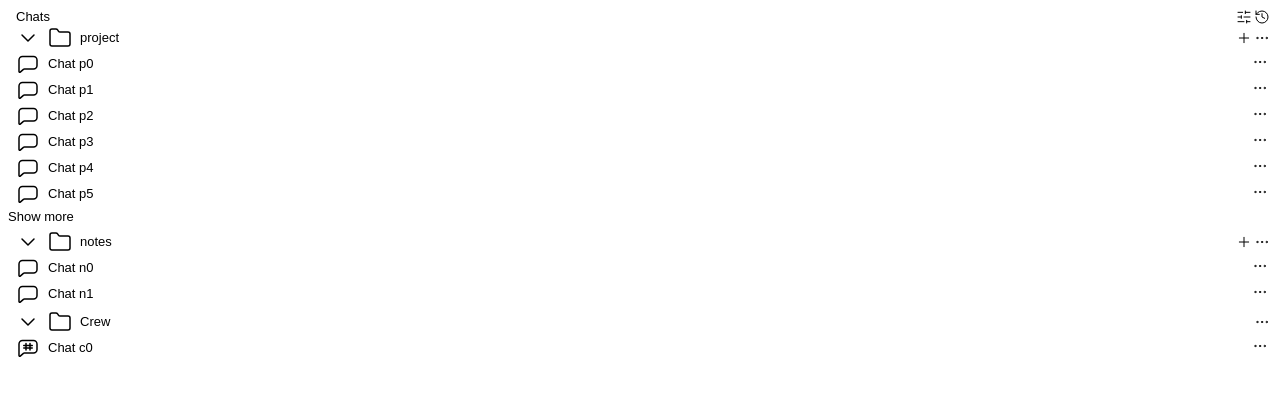
Test case: Group by Folder › draws the current chat past the first five as a sixth row, and Show less collapses to it
expect the button with test id "recent-chat-p4" is shown: met, box top-left (8, 156), bottom-right (1272, 180)
Click the button "Show more": (41, 216) top-left (8, 208), bottom-right (1272, 226)
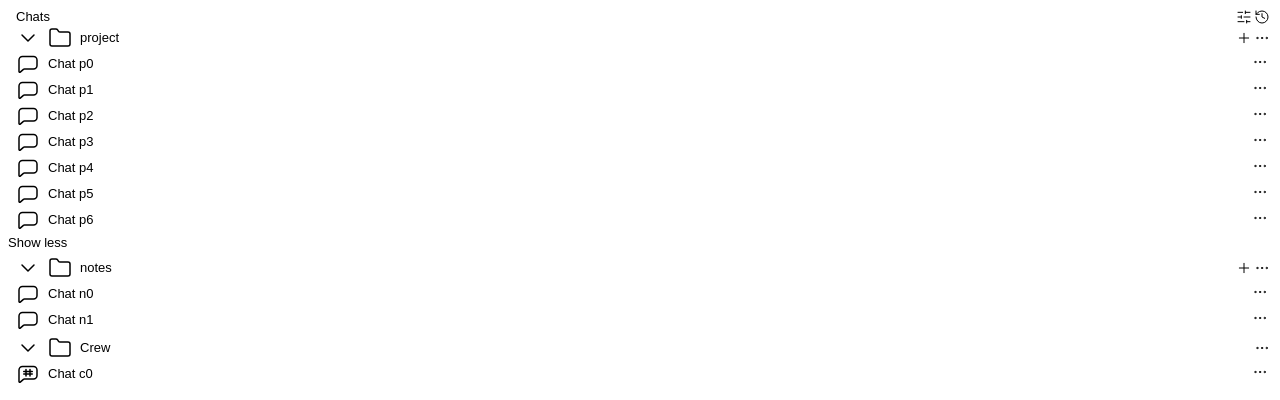
Click the button "Show less": (38, 242) top-left (8, 234), bottom-right (1272, 252)
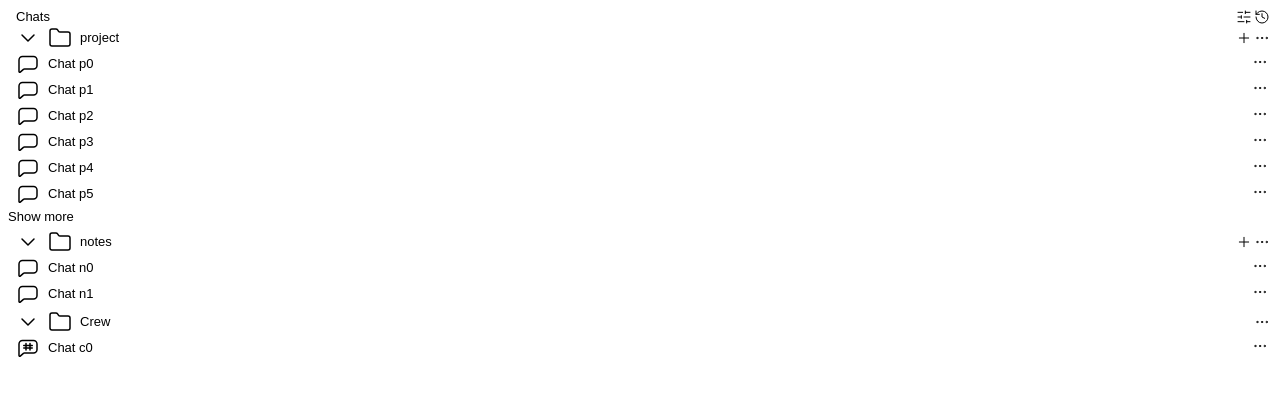
expect the button with test id "recent-chat-p6" is gone: met
